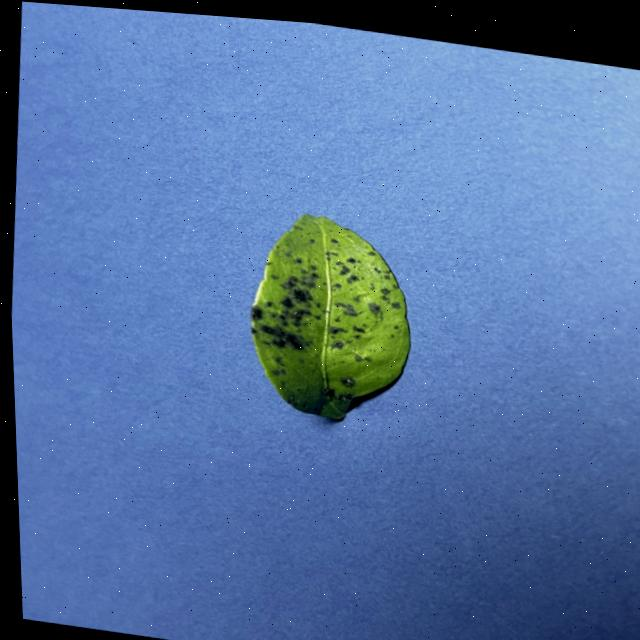sooty_mold: (251, 213, 409, 417)
